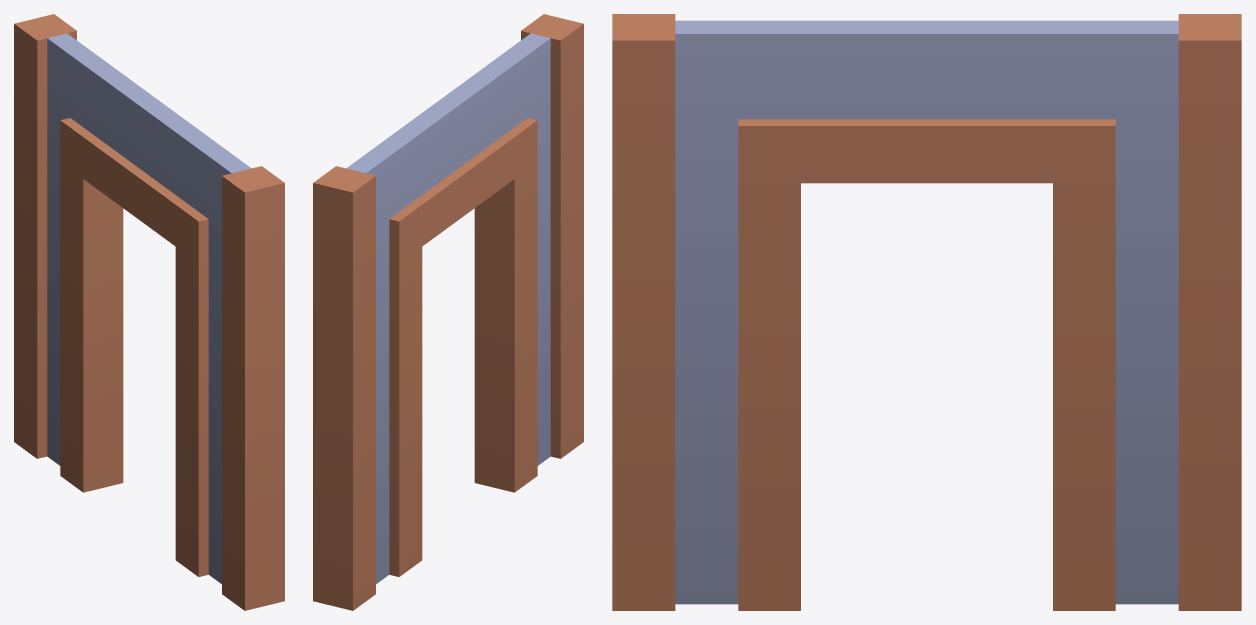
Rendered from wall-doorway-square.glb.
3 views of the same model, side by side, from view 1: azimuth 30°, elevation 25°; view 2: azimuth 150°, elevation 25°; view 3: azimuth 270°, elevation 25° (orthographic). The views are drawn at different scales.
Visible parts, largest first — view 1: wall-doorway-square; view 2: wall-doorway-square; view 3: wall-doorway-square.
Boxes of the visible parts, x1=… form: wall-doorway-square: x1=14, y1=14, x2=284, y2=610; wall-doorway-square: x1=313, y1=14, x2=583, y2=610; wall-doorway-square: x1=612, y1=14, x2=1241, y2=610.
Bounding box in the file's own units: 0.1 × 1 × 1.
1 material, 1 textured.
